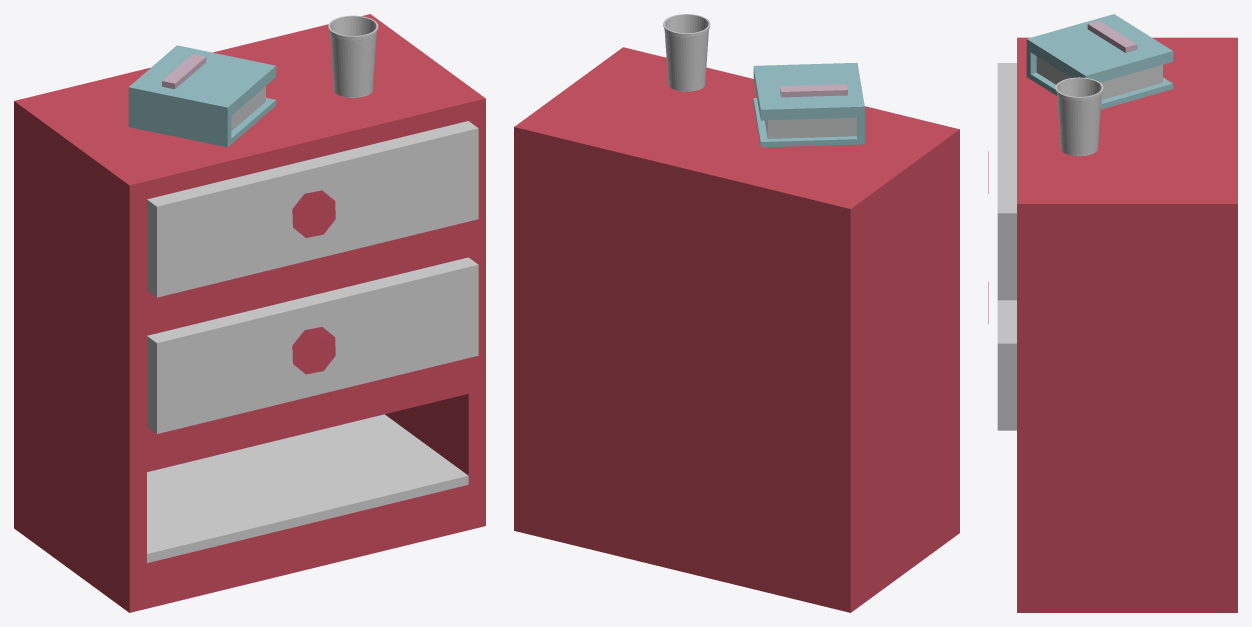
The model's file is side table.glb.
The picture shows the model from 3 angles, left to right: view 1: azimuth 30°, elevation 25°; view 2: azimuth 150°, elevation 25°; view 3: azimuth 270°, elevation 25°; orthographic projection. The views are drawn at different scales.
Parts seen in each view (by area): view 1: Mesh_Mesh_head_geo.001_lambert2SG.001; view 2: Mesh_Mesh_head_geo.001_lambert2SG.001; view 3: Mesh_Mesh_head_geo.001_lambert2SG.001.
Boxes of the visible parts, bbox=[...] form: Mesh_Mesh_head_geo.001_lambert2SG.001: bbox=[14, 14, 485, 612]; Mesh_Mesh_head_geo.001_lambert2SG.001: bbox=[514, 14, 959, 612]; Mesh_Mesh_head_geo.001_lambert2SG.001: bbox=[988, 14, 1237, 612].
Bounding box in the file's own units: 41 × 55 × 26.
